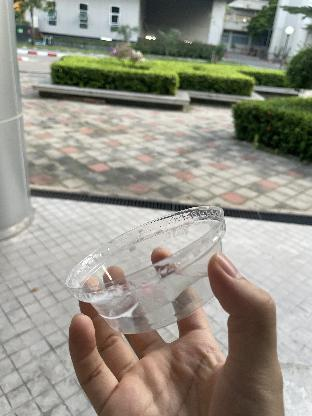Plastic Cup: (64, 200, 230, 338)
